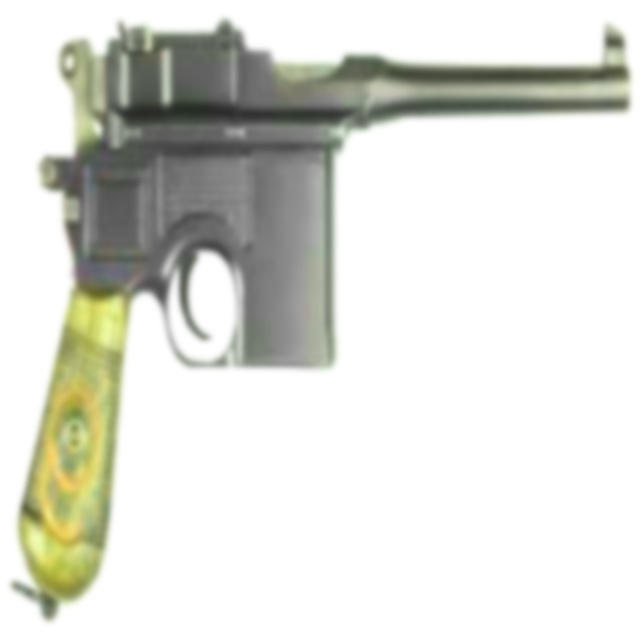gun: (17, 18, 630, 613)
